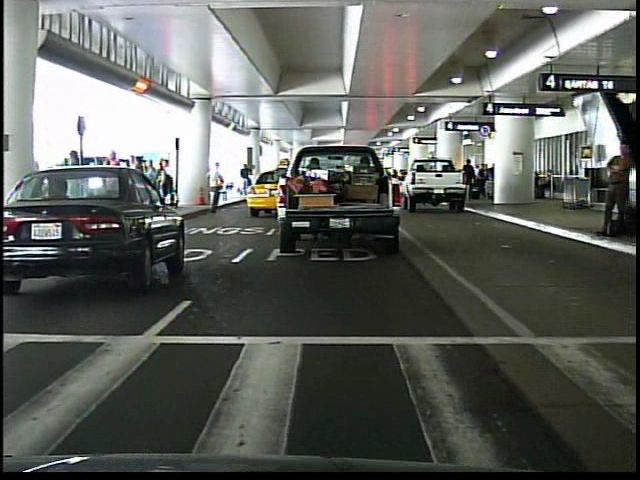person: (602, 139, 638, 248), (100, 150, 127, 224), (204, 157, 227, 213), (238, 162, 257, 196)
